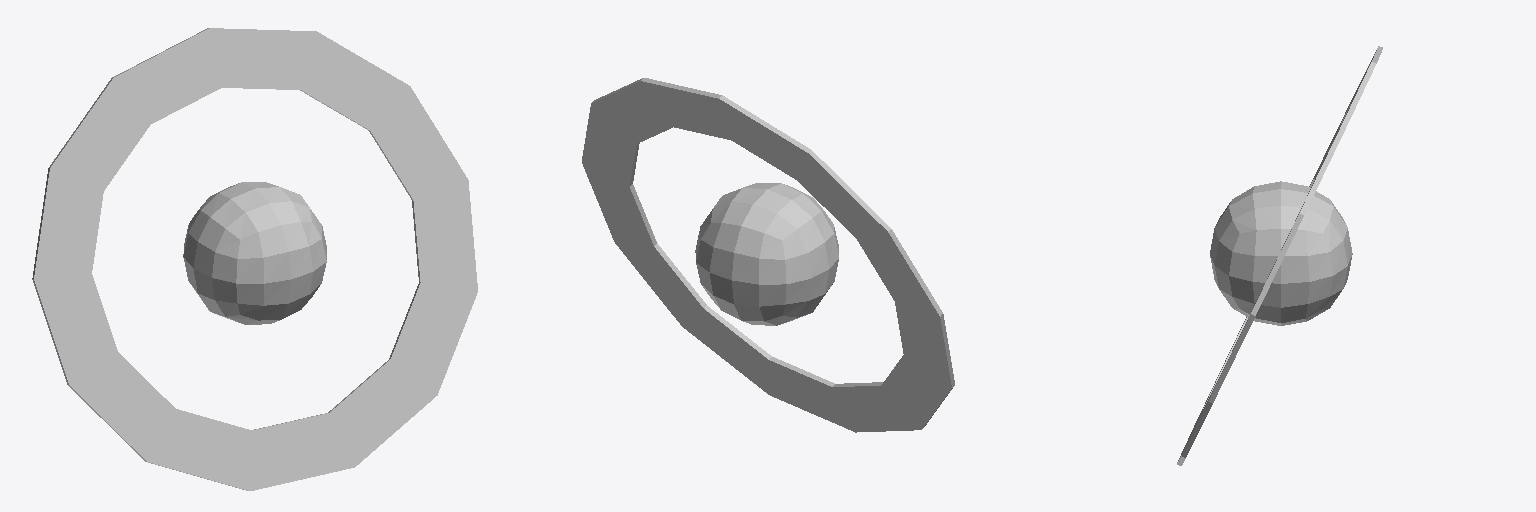
File: saturn.obj
3 views of the same model, side by side, from view 1: azimuth 30°, elevation 25°; view 2: azimuth 150°, elevation 25°; view 3: azimuth 270°, elevation 25° (orthographic).
Bounding box in the file's own units: 0.2741 × 0.2562 × 0.1237.